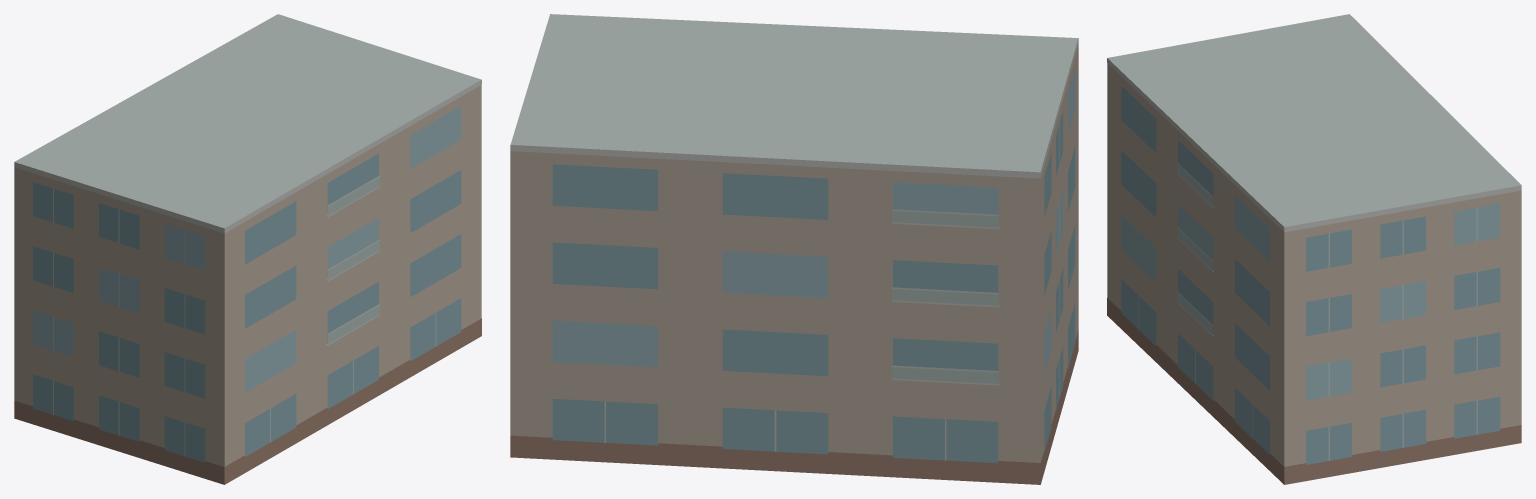
File: survey-upis-32859617.glb
The picture shows the model from 3 angles, left to right: view 1: azimuth 30°, elevation 25°; view 2: azimuth 150°, elevation 25°; view 3: azimuth 270°, elevation 25°; orthographic projection. The views are drawn at different scales.
Visible parts, largest first — view 1: survey-upis-32859617.tmp; view 2: survey-upis-32859617.tmp; view 3: survey-upis-32859617.tmp.
Part boxes in pixels (x1,y1,x2,y2): survey-upis-32859617.tmp: (14,14,481,484); survey-upis-32859617.tmp: (510,14,1078,484); survey-upis-32859617.tmp: (1107,14,1521,484).
Size of the model in its own units: 21.66 by 12.2 by 17.8.
